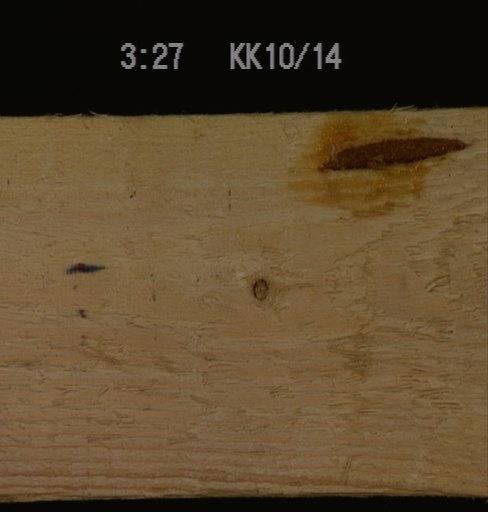dry_knot: (247, 277, 272, 303)
